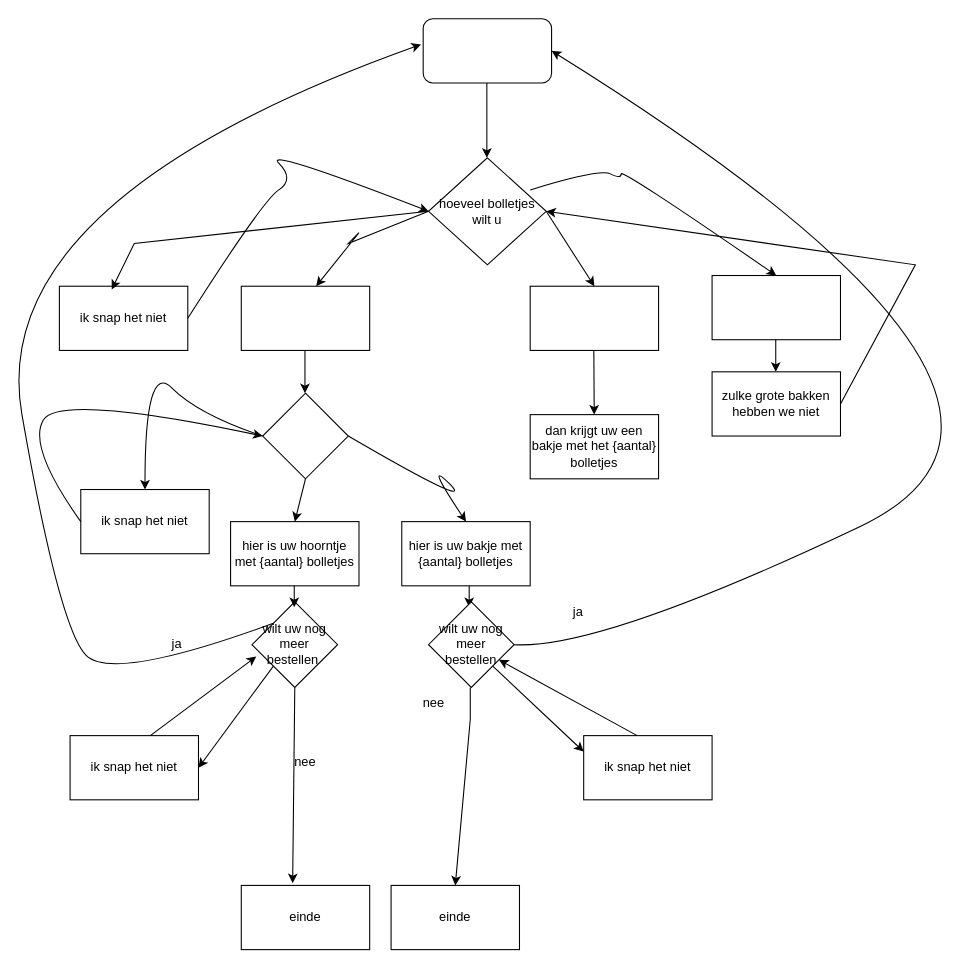
Some shapes in this 960 by 968 pixel diagram are drawn without their labels. Here are the shapes that lost their labels. From the top down, the centre of each, then its label:
point 487,50: start
point 305,317: het aantal is 1/3
point 594,317: het aantal is 4/8
point 775,307: het aantal is hoger dan 8
point 305,435: wilt u een hoorntje of een bakje
